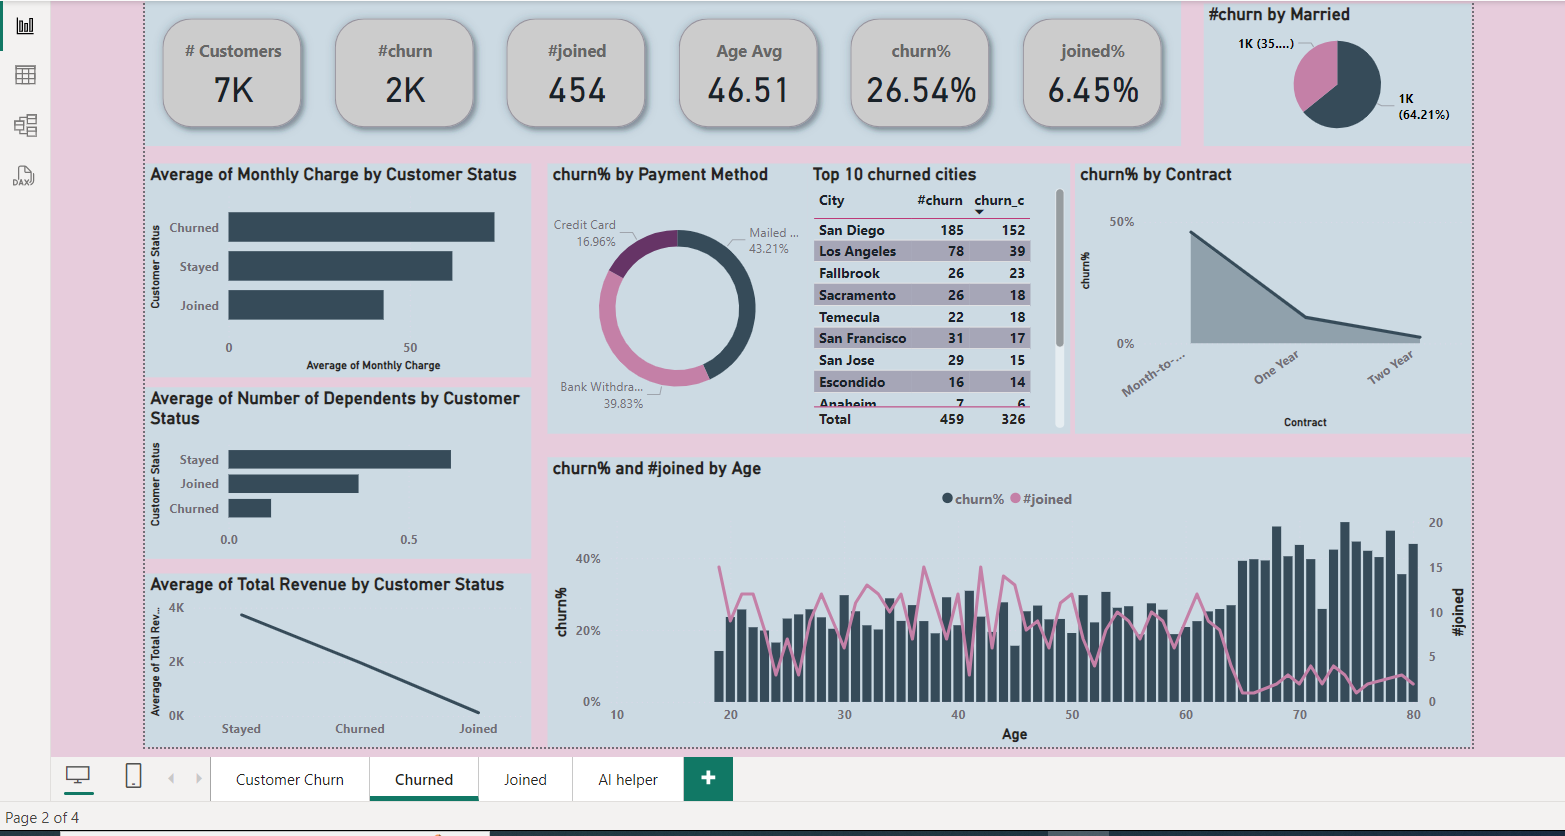

The dashboard page shown, as its layout file describes it:
{"tool":"powerbi","page":{"name":"Churned","canvas":[1280,720],"ordinal":1},"visuals":[{"type":"lineClusteredColumnComboChart","fields":{"Category":["telecom_customer_churn.Age"],"Y":[" measures.churn%"],"Y2":[" measures.#joined"]},"box":[388.5,440.4,891.6,279.9],"z":0},{"type":"pieChart","fields":{"Y":[" measures.#churn"],"Category":["telecom_customer_churn.Married"]},"box":[1021.9,2.4,258.2,137.5],"z":1000},{"type":"areaChart","fields":{"Category":["telecom_customer_churn.Contract"],"Y":[" measures.churn%"]},"box":[897.6,156.8,382.4,260.6],"z":2000},{"type":"clusteredBarChart","fields":{"Category":["telecom_customer_churn.Customer Status"],"Y":["Avg(telecom_customer_churn.Number of Dependents)"]},"box":[0,372.8,372.8,165.3],"z":3000},{"type":"donutChart","fields":{"Y":[" measures.churn%"],"Category":["telecom_customer_churn.Payment Method"]},"box":[388.5,156.8,250.9,260.6],"z":4000},{"type":"clusteredBarChart","fields":{"Category":["telecom_customer_churn.Customer Status"],"Y":["Avg(telecom_customer_churn.Monthly Charge)"]},"box":[0,156.8,372.8,206.3],"z":5000},{"type":"lineChart","fields":{"Y":["Avg(telecom_customer_churn.Total Revenue)"],"Category":["telecom_customer_churn.Customer Status"]},"box":[0,552.5,372.8,167.7],"z":6000},{"type":"cardVisual","fields":{"Data":[" measures.# Customer"," measures.#churn"," measures.#joined"," measures.Age Avg"," measures.churn%"," measures.joined%"]},"box":[0,0,1000.3,140],"z":7000},{"type":"tableEx","title":"Top 10 churned cities","fields":{"Values":["telecom_customer_churn.City"," measures.#churn"," measures.churn_c"]},"box":[639.4,156.8,253.4,260.6],"z":8000}]}

Visuals, with their boxes on the page's 1280x720 design canvas (x1, y1, x2, y2). These are canvas units, not pixel positions in the 1565x836 screenshot, which may show the page scaled, cropped or inside an application window:
lineClusteredColumnComboChart - telecom_customer_churn.Age x  measures.churn%: (388, 440, 1280, 720)
pieChart -  measures.#churn x telecom_customer_churn.Married: (1022, 2, 1280, 140)
areaChart - telecom_customer_churn.Contract x  measures.churn%: (898, 157, 1280, 417)
clusteredBarChart - telecom_customer_churn.Customer Status x Avg(telecom_customer_churn.Number of Dependents): (0, 373, 373, 538)
donutChart -  measures.churn% x telecom_customer_churn.Payment Method: (388, 157, 639, 417)
clusteredBarChart - telecom_customer_churn.Customer Status x Avg(telecom_customer_churn.Monthly Charge): (0, 157, 373, 363)
lineChart - Avg(telecom_customer_churn.Total Revenue) x telecom_customer_churn.Customer Status: (0, 552, 373, 720)
cardVisual -  measures.# Customer x  measures.#churn: (0, 0, 1000, 140)
"Top 10 churned cities" tableEx: (639, 157, 893, 417)
